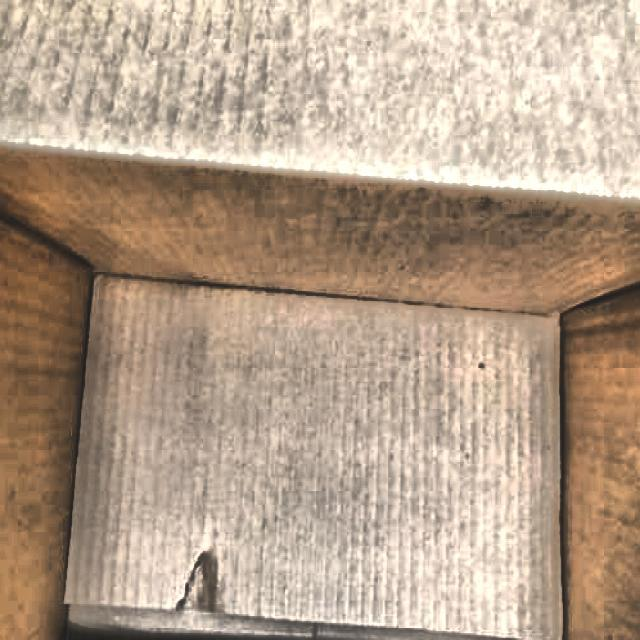cardboard: (60, 268, 566, 640)
